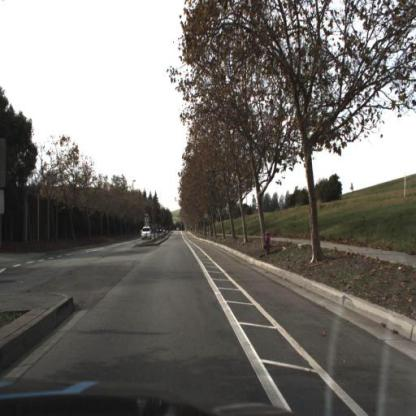car: (143, 226, 152, 242)
